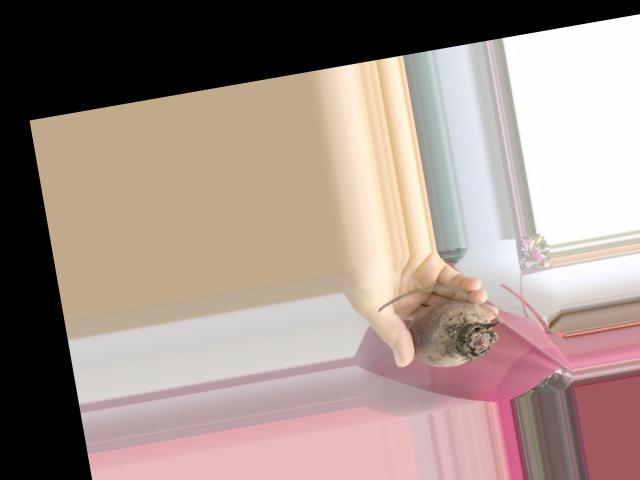beet: (375, 275, 509, 377)
